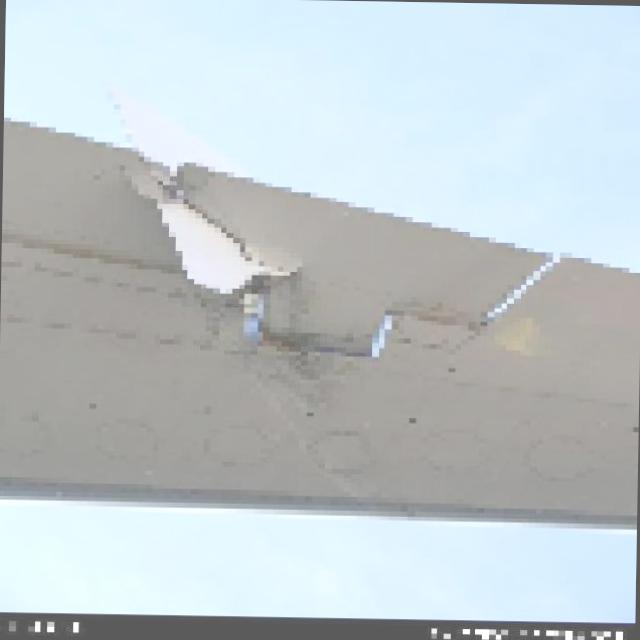crack: (78, 151, 311, 304)
